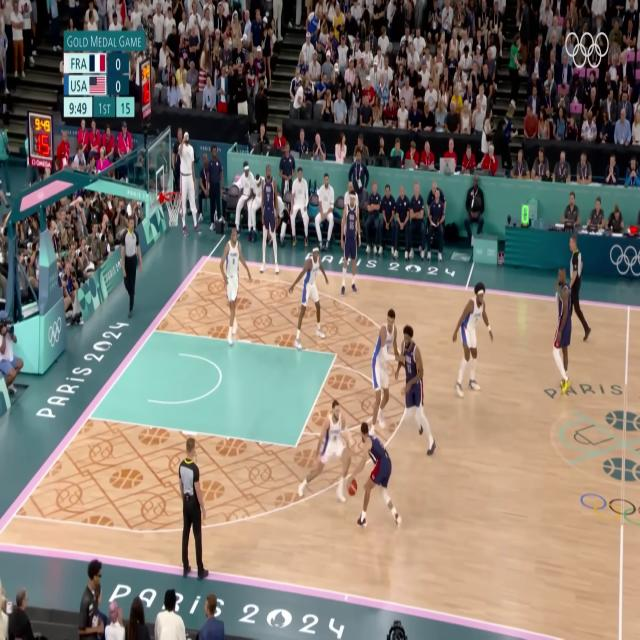ball-handler: (350, 419, 404, 541)
player: (297, 393, 350, 522), (450, 279, 494, 404), (399, 320, 438, 459), (288, 246, 330, 349), (219, 219, 252, 349), (548, 264, 578, 400), (368, 305, 399, 435), (259, 163, 280, 275), (341, 190, 361, 297)
